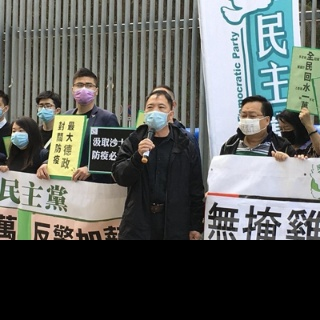with_mask: (144, 101, 170, 132), (240, 108, 265, 135), (73, 79, 96, 105), (36, 100, 56, 122), (278, 123, 296, 144), (12, 126, 28, 149)
